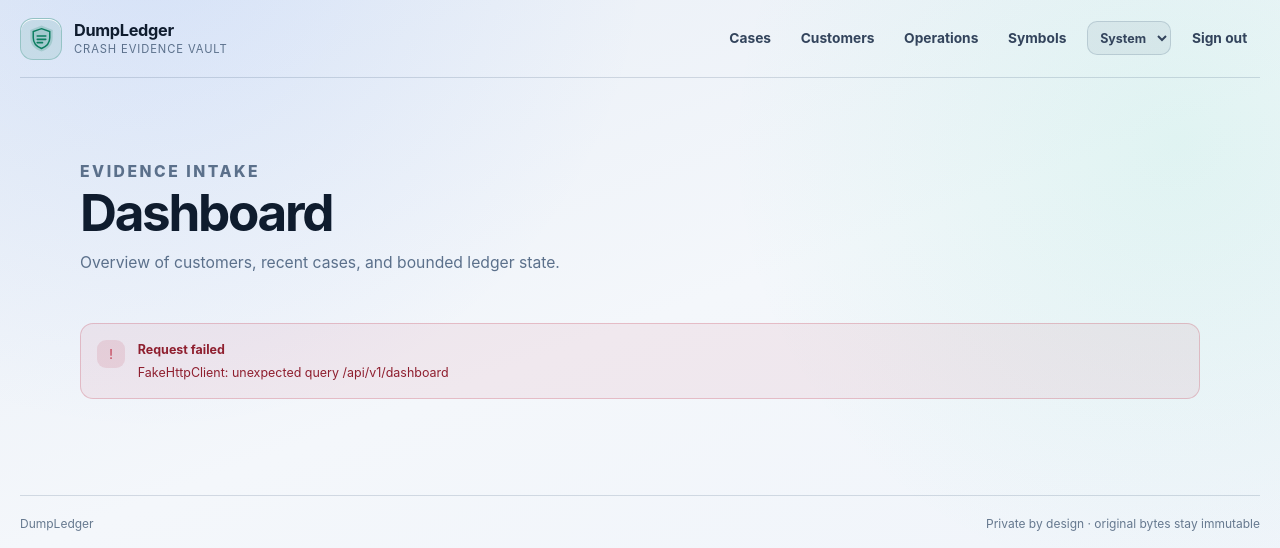
Scenario: client-side navigation › navigates between operator routes through the primary navigation
The image size is (1280, 548).
Expected: the heading "Dashboard" is shown, [80,181,332,243]
Click the link "Operations" at (941, 38), box [904,30,978,46]
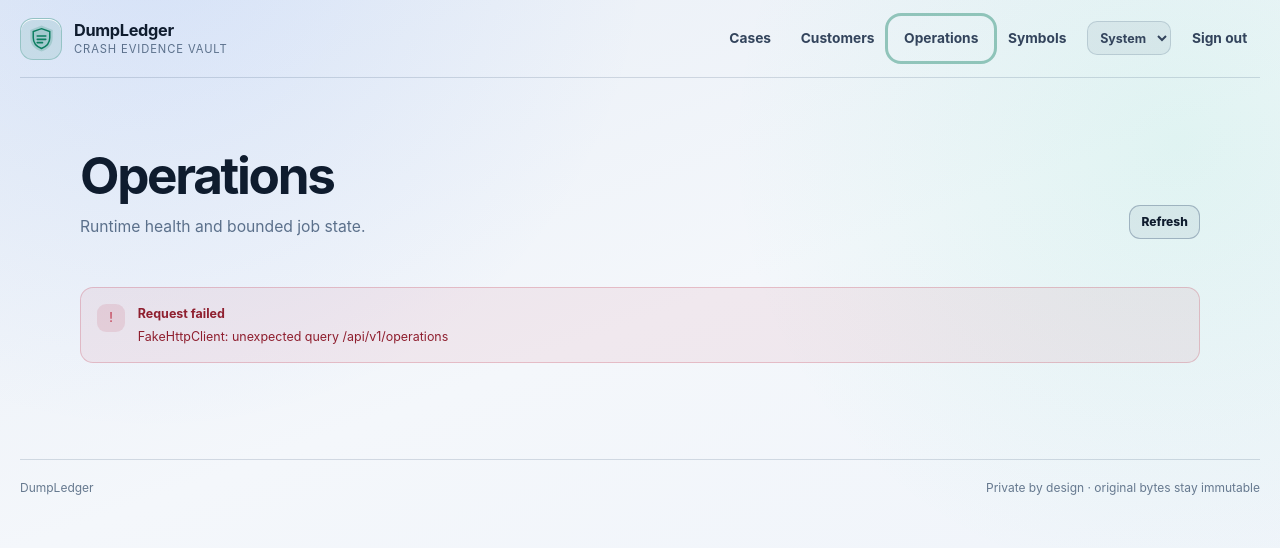
Now the heading "Operations" is shown, box [80,148,365,203]
